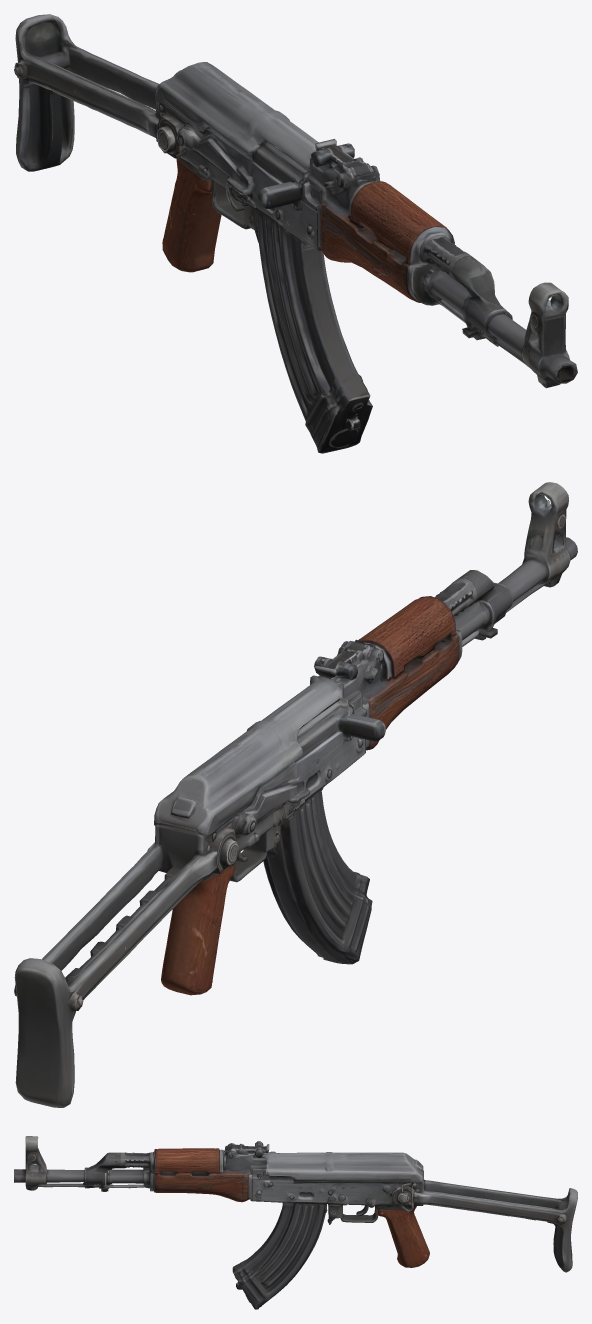
File: type56.glb
3 views of the same model, one above another, from view 1: azimuth 30°, elevation 25°; view 2: azimuth 150°, elevation 25°; view 3: azimuth 270°, elevation 25° (orthographic). The views are drawn at different scales.
Parts seen in each view (by area): view 1: type56_tripo_node_d8d54e6d-8937-4e9b-b3b5-feb4c31b862e; view 2: type56_tripo_node_d8d54e6d-8937-4e9b-b3b5-feb4c31b862e; view 3: type56_tripo_node_d8d54e6d-8937-4e9b-b3b5-feb4c31b862e.
Boxes of the visible parts, left/top/right/bottom form: type56_tripo_node_d8d54e6d-8937-4e9b-b3b5-feb4c31b862e: left=14, top=14, right=577, bottom=453; type56_tripo_node_d8d54e6d-8937-4e9b-b3b5-feb4c31b862e: left=14, top=482, right=577, bottom=1107; type56_tripo_node_d8d54e6d-8937-4e9b-b3b5-feb4c31b862e: left=14, top=1136, right=577, bottom=1309.
Size of the model in its own units: 0.0964 by 0.2969 by 0.9.
Materials: 1 (1 with a texture image).
